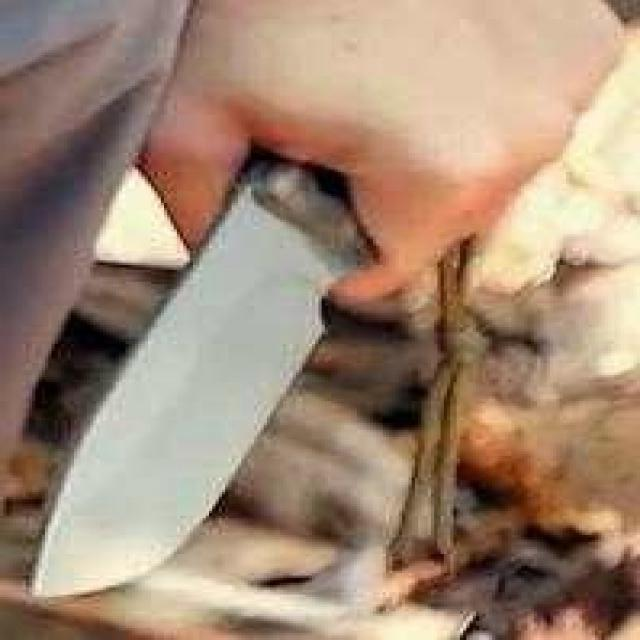Knife: (32, 156, 371, 596)
